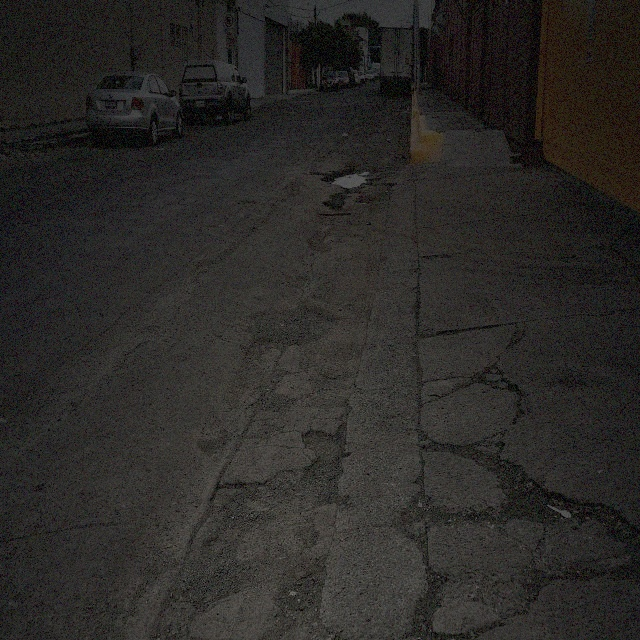pothole: (472, 442, 630, 546), (205, 417, 348, 531), (185, 541, 249, 611), (274, 548, 328, 624), (212, 476, 269, 526), (395, 486, 429, 558), (411, 574, 450, 630), (517, 560, 554, 611), (423, 426, 464, 463), (325, 164, 372, 188), (324, 195, 348, 211), (238, 197, 255, 209)
